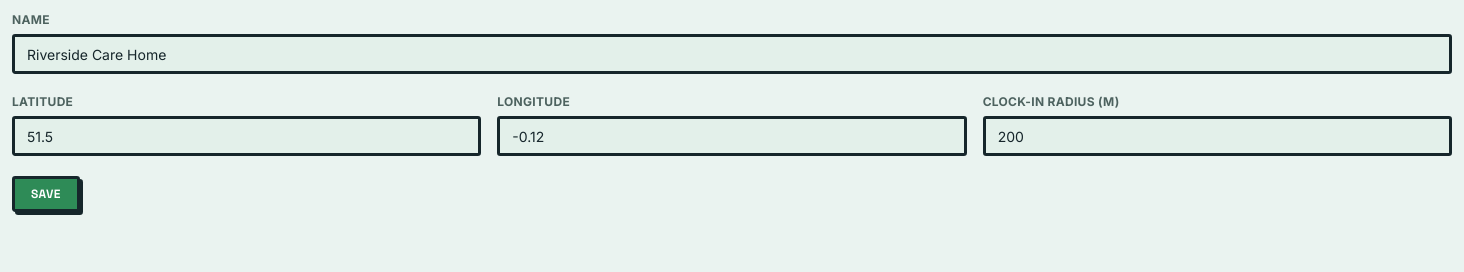
Test: WorkplaceSettingsForm › shows an error message when the save fails
This screenshot has width=1464, height=272.
Click the button "Save" at (46, 194), box [12,176,80,212]
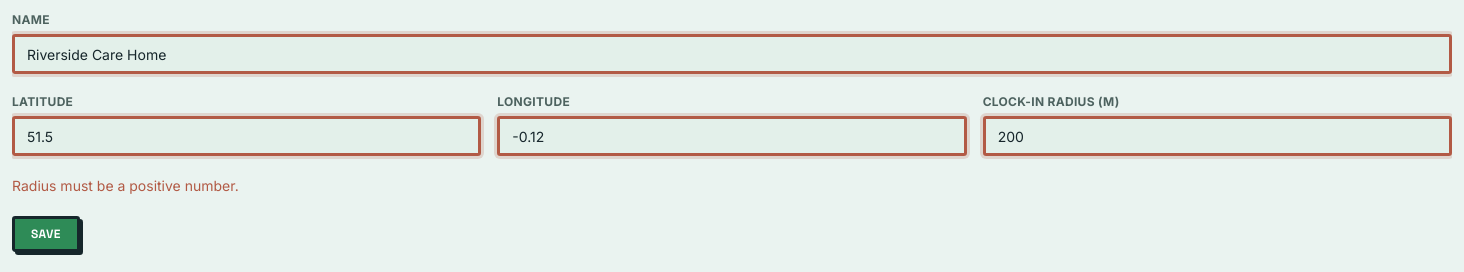
Expected: the message reads "Radius must be a positive number.", [12,177,239,194]
